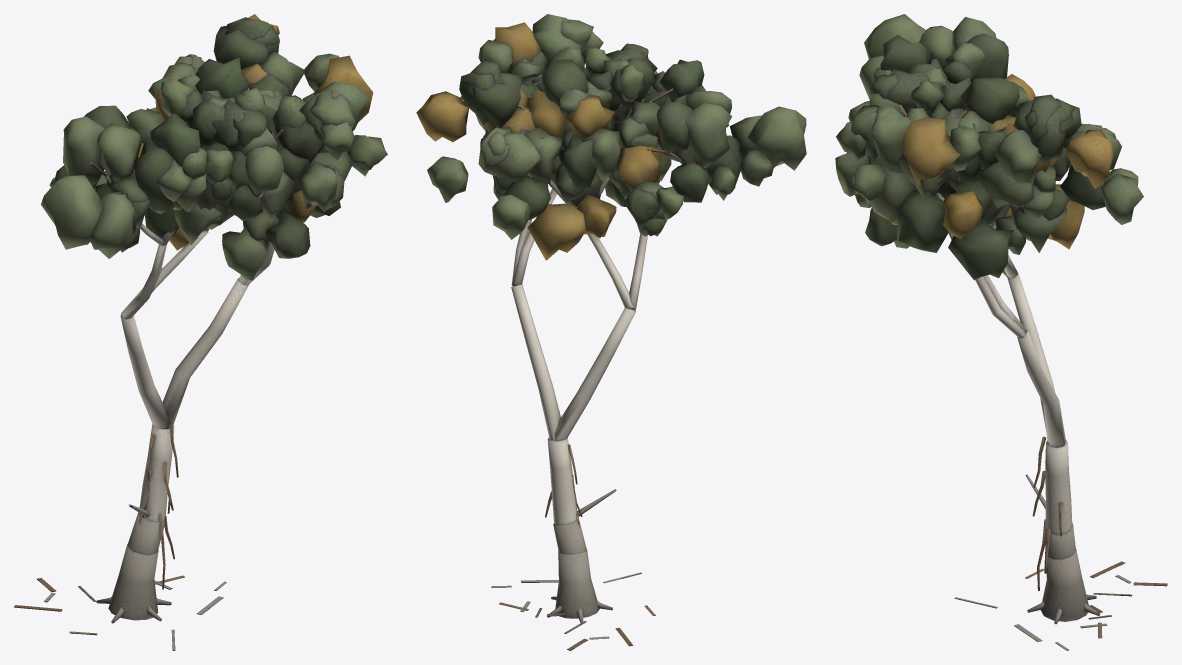
File: gum_tree_b.glb
3 renders of one model, left to right at view 1: azimuth 30°, elevation 25°; view 2: azimuth 150°, elevation 25°; view 3: azimuth 270°, elevation 25°, orthographic. The views are drawn at different scales.
Visible parts, largest first — view 1: gum_tree_b; view 2: gum_tree_b; view 3: gum_tree_b.
Part boxes in pixels (box(x1,y1,x2,y2)): gum_tree_b: box(14, 14, 387, 650); gum_tree_b: box(416, 14, 806, 650); gum_tree_b: box(835, 14, 1167, 650).
Bounding box in the file's own units: 9.72 × 15.91 × 8.48.
1 material, 1 textured.
